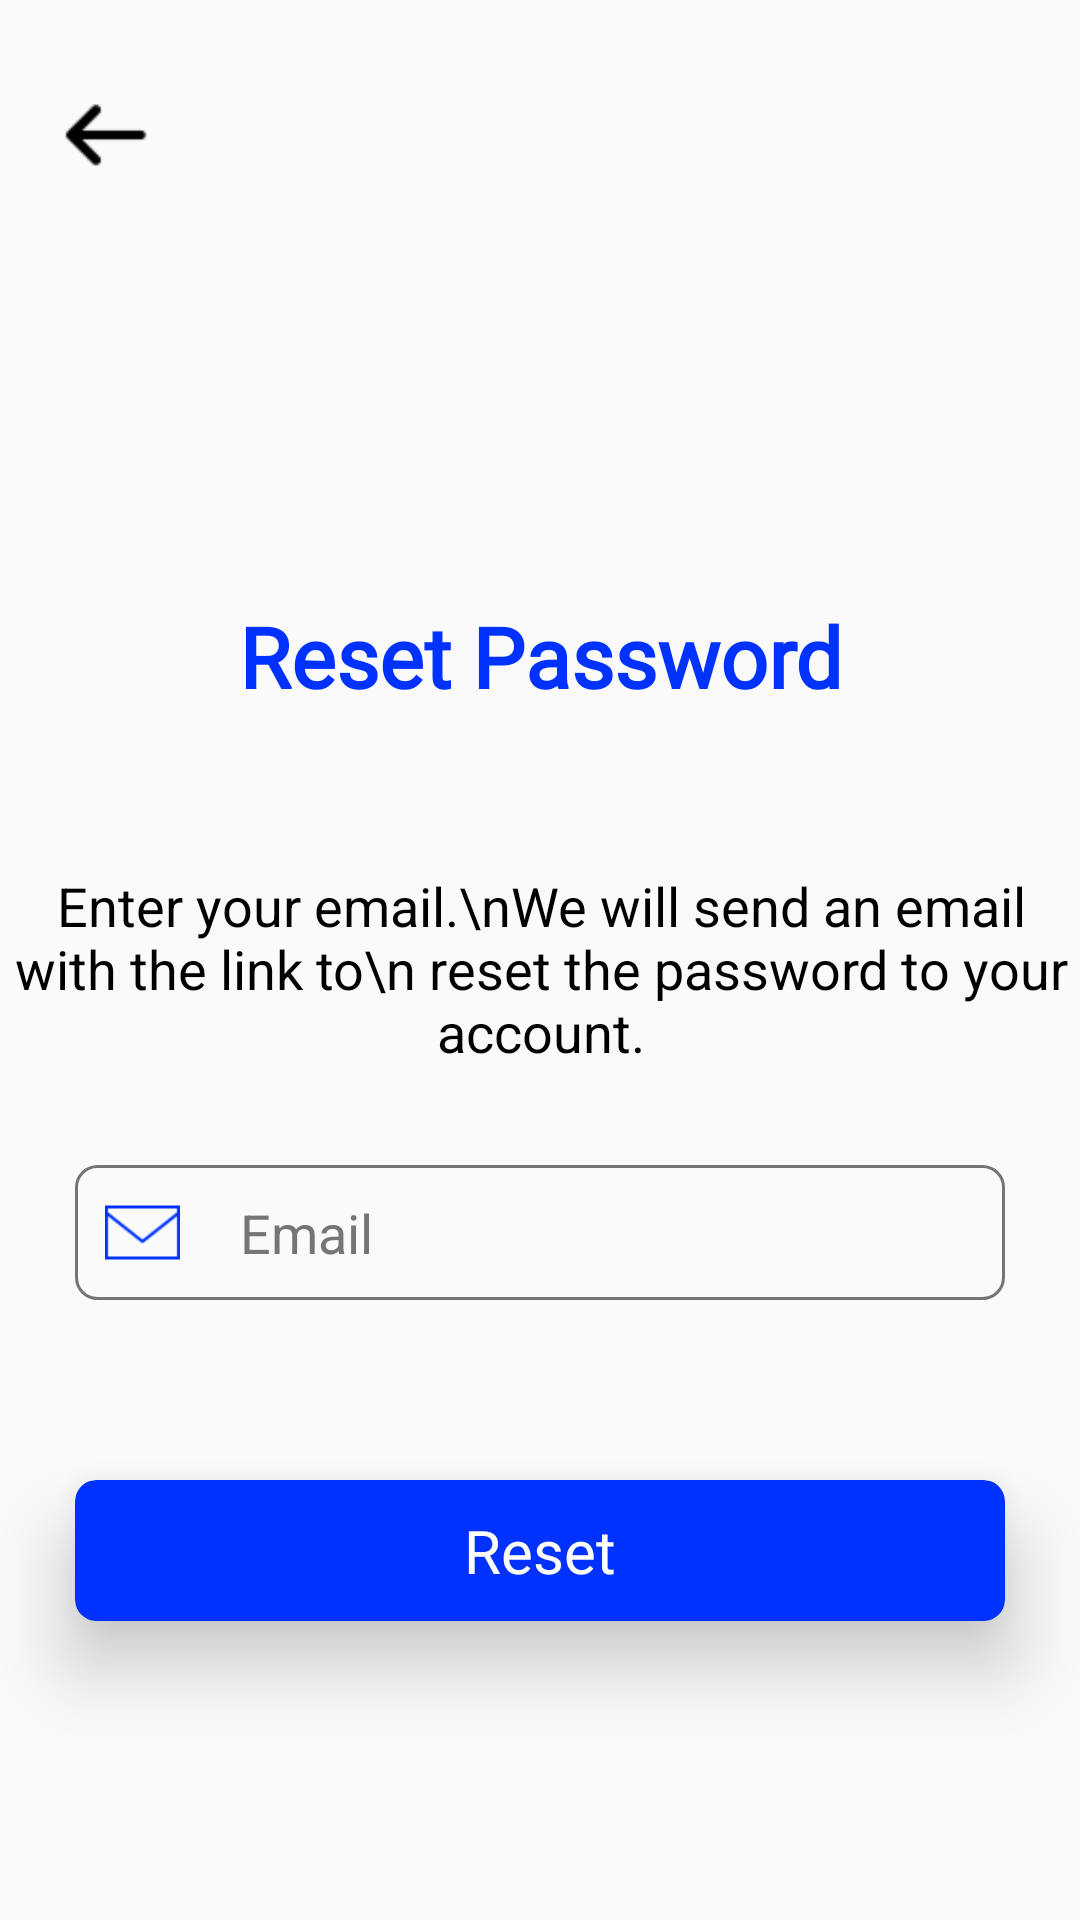

Where to tap for icons on this 1080*1920 app screen, as (x,y):
back: (106,135)
